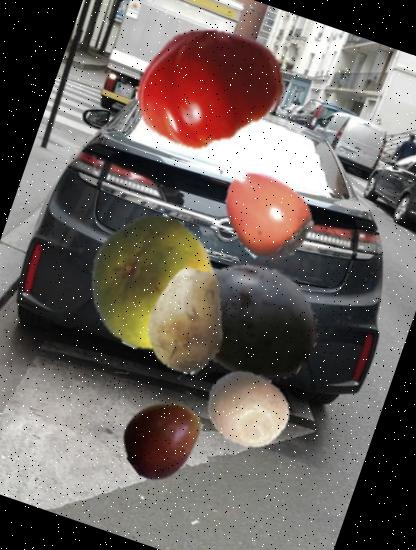Kaki: (203, 153, 328, 278)
Kumquats: (193, 354, 302, 464)
Mango: (110, 384, 216, 490)
Plum: (161, 230, 339, 408)
Pomelo: (67, 197, 239, 369)
Potato: (116, 251, 260, 395)
Tomato: (115, 0, 304, 183)
